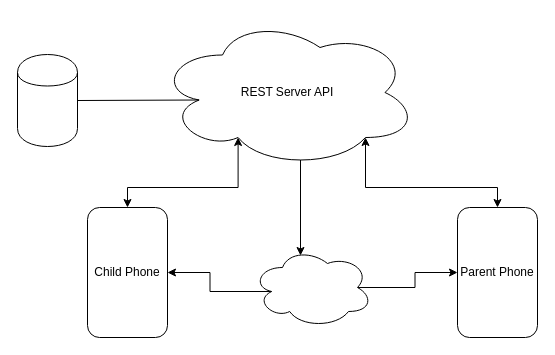
The diagram is 555 pixels wide and 355 high, and some of its shapes have lost their labels. The shapes that lost their labels are listed below. From the top down, each one's box as (x1, y1, x2, y2) in pixels, then its label:
(16, 54, 78, 146): SQLite Database
(252, 246, 372, 328): GCM
